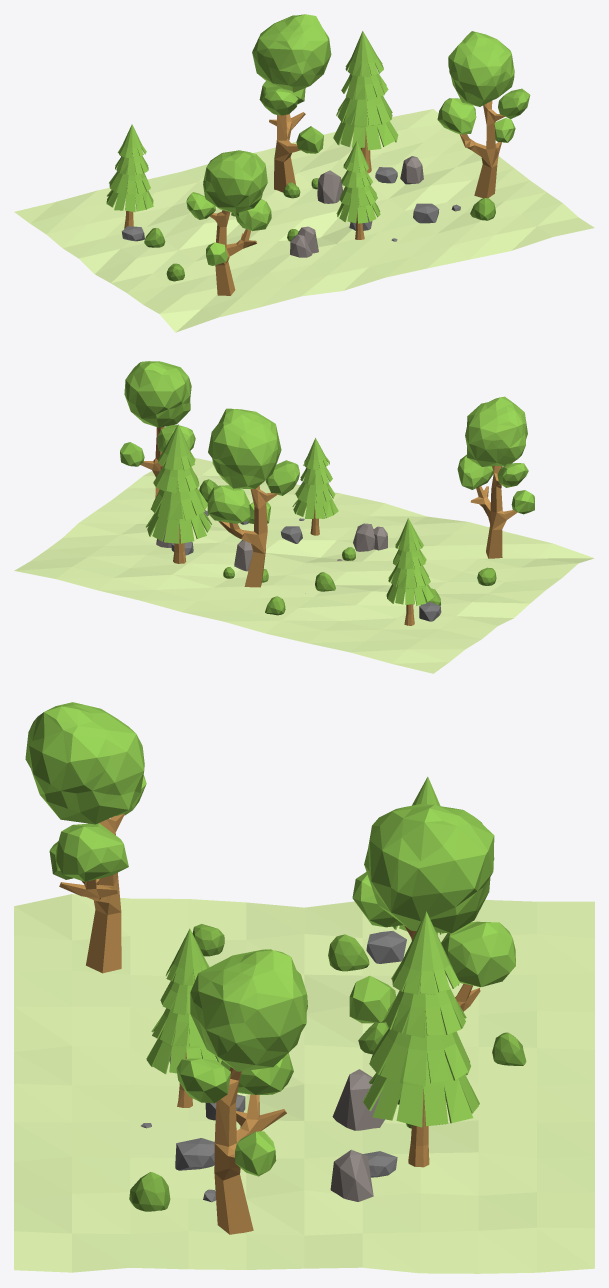
Rendered from forest.glb.
The picture shows the model from 3 angles, top to bottom: view 1: azimuth 30°, elevation 25°; view 2: azimuth 150°, elevation 25°; view 3: azimuth 270°, elevation 25°; orthographic projection. The views are drawn at different scales.
Parts seen in each view (by area): view 1: Plane, Tree1 (×3), Tree3_2.001 (×3), Tree1_2.001 (×3), Rock4 13, Rock4 19, Rock1 8, Bush1 4; view 2: Plane, Tree1 (×3), Tree3_2.001 (×3), Tree1_2.001 (×2), Rock4 7, Rock4 13; view 3: Plane, Tree1 (×3), Tree3_2.001 (×2), Tree1_2.001 (×2), Rock4 13, Rock4 19, Bush1 4, Bush1 10, Rock1 8, Rock1 20, Bush1 22, Tree3_1.001 (+1 smaller).
Boxes of the visible parts, <box> form: Plane: <box>14,109,594,332</box>; Tree1 (×3): <box>186,14,530,265</box>; Tree3_2.001 (×3): <box>106,31,398,223</box>; Tree1_2.001 (×3): <box>209,101,504,295</box>; Rock4 13: <box>317,170,342,203</box>; Rock4 19: <box>400,156,423,184</box>; Rock1 8: <box>413,203,439,223</box>; Bush1 4: <box>470,198,495,220</box>; Plane: <box>14,457,594,673</box>; Tree1 (×3): <box>120,361,534,523</box>; Tree3_2.001 (×3): <box>146,424,434,605</box>; Tree1_2.001 (×2): <box>218,466,517,587</box>; Rock4 7: <box>353,523,375,551</box>; Rock4 13: <box>234,540,253,571</box>; Plane: <box>14,894,594,1273</box>; Tree1 (×3): <box>25,702,515,1176</box>; Tree3_2.001 (×2): <box>146,911,479,1127</box>; Tree1_2.001 (×2): <box>59,813,286,1234</box>; Rock4 13: <box>332,1069,384,1130</box>; Rock4 19: <box>330,1149,373,1201</box>; Bush1 4: <box>129,1172,170,1211</box>; Bush1 10: <box>328,934,369,971</box>; Rock1 8: <box>175,1138,214,1170</box>; Rock1 20: <box>366,931,406,963</box>; Bush1 22: <box>492,1032,526,1065</box>; Tree3_1.001: <box>408,1091,429,1167</box>.
Bounding box in the file's own units: 60 × 24.24 × 40.
